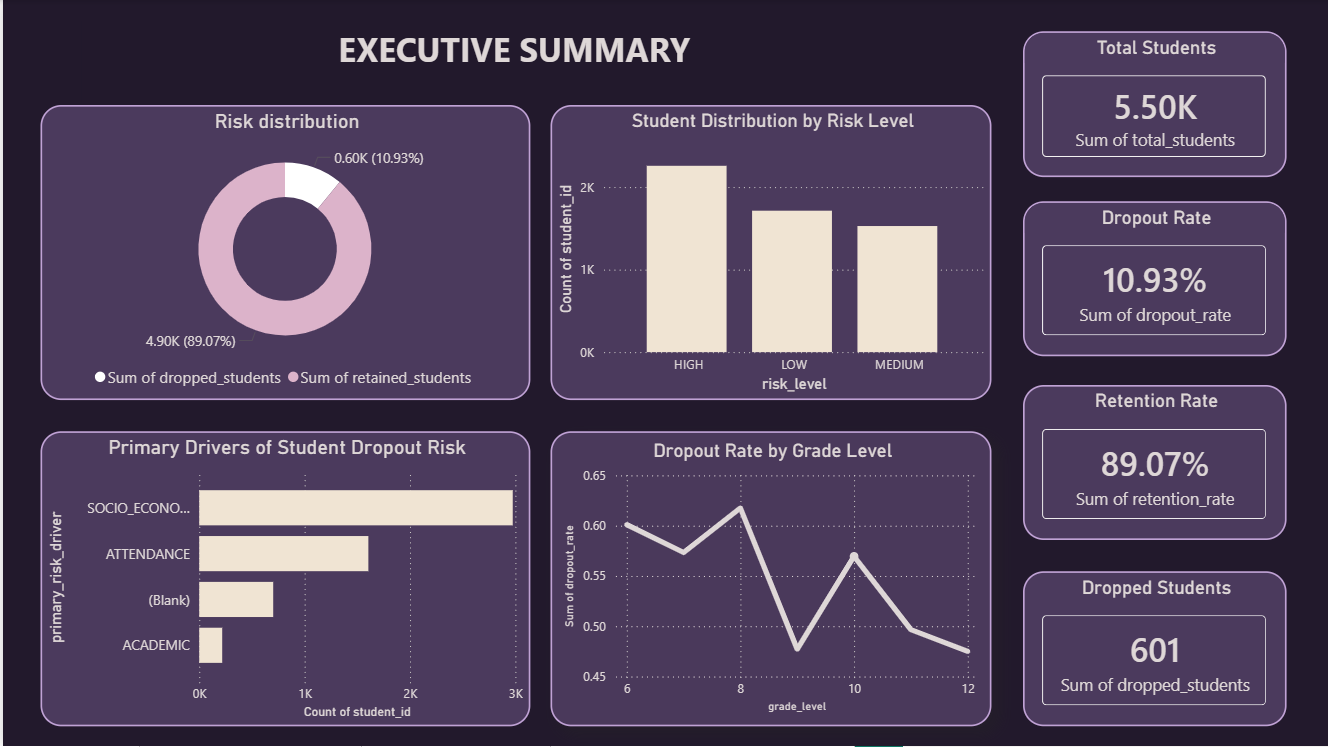

The page's visual inventory and layout, read from the dashboard file:
{"tool":"powerbi","page":{"name":"EXECUTIVE OVERVIEW","canvas":[1280,720],"ordinal":0},"visuals":[{"type":"cardVisual","title":"Total Students","fields":{"Data":["Sum(gold_retention_overview.total_students)"]},"box":[984.5,30.2,254.6,141.2],"z":0},{"type":"cardVisual","title":"Retention Rate","fields":{"Data":["Sum(gold_retention_overview.retention_rate)"]},"box":[984.5,371.6,254.6,149.6],"z":1000},{"type":"cardVisual","title":"Dropout Rate","fields":{"Data":["Sum(gold_retention_overview.dropout_rate)"]},"box":[984.5,194.2,254.6,149.6],"z":2000},{"type":"cardVisual","title":"Dropped Students","fields":{"Data":["Sum(gold_retention_overview.dropped_students)"]},"box":[984.5,551.3,254.6,149.6],"z":3000},{"type":"donutChart","title":"Risk distribution","fields":{"Y":["Sum(gold_retention_overview.dropped_students)","Sum(gold_retention_overview.retained_students)"]},"box":[36.2,101.3,472.9,284.7],"z":4000},{"type":"lineChart","title":"Dropout Rate by Grade Level","fields":{"Category":["gold_dropout_trends.grade_level"],"Y":["Sum(gold_dropout_trends.dropout_rate)"]},"box":[528.4,416.2,425.9,284.7],"z":5000},{"type":"barChart","title":"Primary Drivers of Student Dropout Risk","fields":{"Category":["gold_student_risk_profile.primary_risk_driver"],"Y":["CountNonNull(gold_student_risk_profile.student_id)"]},"box":[36.2,416.2,472.9,284.7],"z":6000},{"type":"columnChart","title":"Student Distribution by Risk Level","fields":{"Category":["gold_student_risk_profile.risk_level"],"Y":["CountNonNull(gold_student_risk_profile.student_id)"]},"box":[528.4,101.3,425.9,284.7],"z":7000},{"type":"textbox","box":[76,20.5,834.9,79.6],"z":8000}]}

Visuals, with their boxes in screenshot pixels (x1, y1, x2, y2), scaled from the page's 1280x720 canvas onto the 1328x747 screenshot:
"Total Students" cardVisual: x1=1021, y1=31, x2=1286, y2=178
"Retention Rate" cardVisual: x1=1021, y1=386, x2=1286, y2=541
"Dropout Rate" cardVisual: x1=1021, y1=201, x2=1286, y2=357
"Dropped Students" cardVisual: x1=1021, y1=572, x2=1286, y2=727
"Risk distribution" donutChart: x1=38, y1=105, x2=528, y2=400
"Dropout Rate by Grade Level" lineChart: x1=548, y1=432, x2=990, y2=727
"Primary Drivers of Student Dropout Risk" barChart: x1=38, y1=432, x2=528, y2=727
"Student Distribution by Risk Level" columnChart: x1=548, y1=105, x2=990, y2=400
textbox: x1=79, y1=21, x2=945, y2=104
